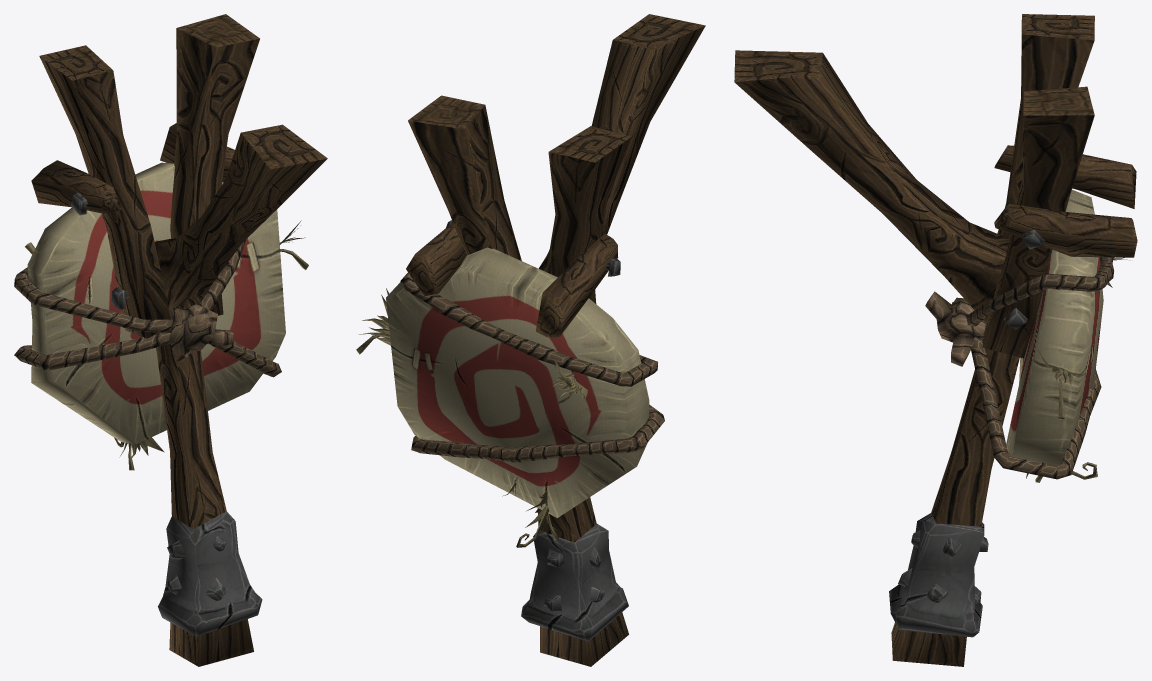
The model's file is target.gltf.
3 renders of one model, left to right at view 1: azimuth 30°, elevation 25°; view 2: azimuth 150°, elevation 25°; view 3: azimuth 270°, elevation 25°, orthographic. The views are drawn at different scales.
Parts seen in each view (by area): view 1: node_id42, node_id40; view 2: node_id40, node_id42; view 3: node_id42, node_id40.
Boxes of the visible parts, x1=… form: node_id42: x1=14, y1=14, x2=327, y2=666; node_id40: x1=27, y1=162, x2=285, y2=636; node_id40: x1=386, y1=220, x2=649, y2=641; node_id42: x1=356, y1=14, x2=705, y2=666; node_id42: x1=734, y1=14, x2=1137, y2=666; node_id40: x1=889, y1=189, x2=1103, y2=637.
Bounding box in the file's own units: 0.7684 × 1.43 × 0.8772.
2 materials, 2 textured.
